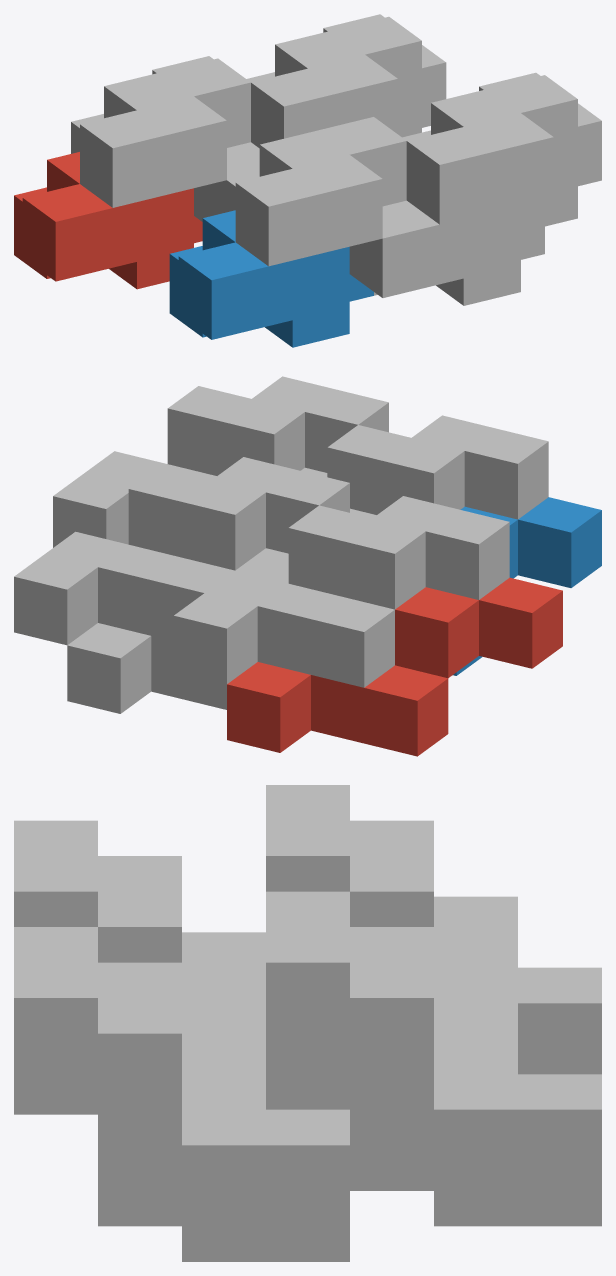
The model's file is tiling.obj.
3 renders of one model, top to bottom at view 1: azimuth 30°, elevation 25°; view 2: azimuth 150°, elevation 25°; view 3: azimuth 270°, elevation 25°, orthographic. The views are drawn at different scales.
Parts seen in each view (by area): view 1: copy_1_domain_8, copy_1_domain_3, copy_1_domain_4, copy_1_domain_7, copy_1_domain_2, copy_1_domain_1, copy_1_domain_6, copy_1_domain_5; view 2: copy_1_domain_3, copy_1_domain_7, copy_1_domain_1, copy_1_domain_8, copy_1_domain_4, copy_1_domain_5, copy_1_domain_2; view 3: copy_1_domain_8, copy_1_domain_7, copy_1_domain_3, copy_1_domain_4, copy_1_domain_6, copy_1_domain_5.
Part boxes in pixels (x1=…): copy_1_domain_8: x1=402, y1=72, x2=601, y2=232; copy_1_domain_3: x1=71, y1=56, x2=250, y2=207; copy_1_domain_4: x1=227, y1=117, x2=406, y2=266; copy_1_domain_7: x1=246, y1=14, x2=446, y2=148; copy_1_domain_2: x1=169, y1=210, x2=373, y2=347; copy_1_domain_1: x1=14, y1=152, x2=202, y2=289; copy_1_domain_6: x1=349, y1=200, x2=544, y2=305; copy_1_domain_5: x1=194, y1=142, x2=259, y2=221; copy_1_domain_3: x1=173, y1=496, x2=509, y2=687; copy_1_domain_7: x1=14, y1=457, x2=349, y2=645; copy_1_domain_1: x1=227, y1=577, x2=562, y2=756; copy_1_domain_8: x1=53, y1=376, x2=388, y2=547; copy_1_domain_4: x1=327, y1=415, x2=548, y2=519; copy_1_domain_5: x1=67, y1=548, x2=288, y2=713; copy_1_domain_2: x1=453, y1=497, x2=601, y2=675; copy_1_domain_8: x1=14, y1=927, x2=349, y2=1221; copy_1_domain_7: x1=266, y1=891, x2=601, y2=1185; copy_1_domain_3: x1=266, y1=785, x2=601, y2=1074; copy_1_domain_4: x1=14, y1=820, x2=349, y2=1109; copy_1_domain_6: x1=14, y1=1074, x2=349, y2=1261; copy_1_domain_5: x1=350, y1=1150, x2=601, y2=1226.
Bounding box in the file's own units: 9 × 3 × 7.
